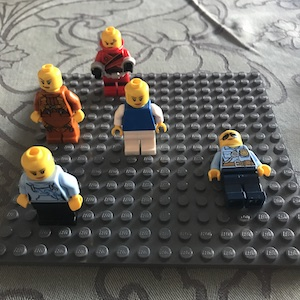Lego: (13, 145, 83, 223), (205, 129, 272, 209), (28, 63, 85, 144), (110, 75, 166, 157), (90, 24, 135, 95)
